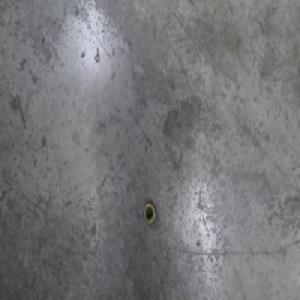Nut: (142, 200, 156, 227)
